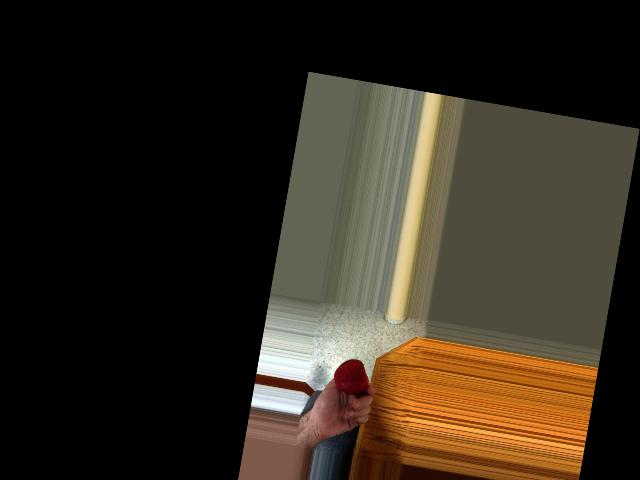apple: (331, 354, 372, 397)
